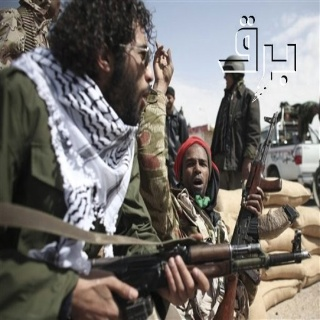rifle: (75, 229, 312, 320)
